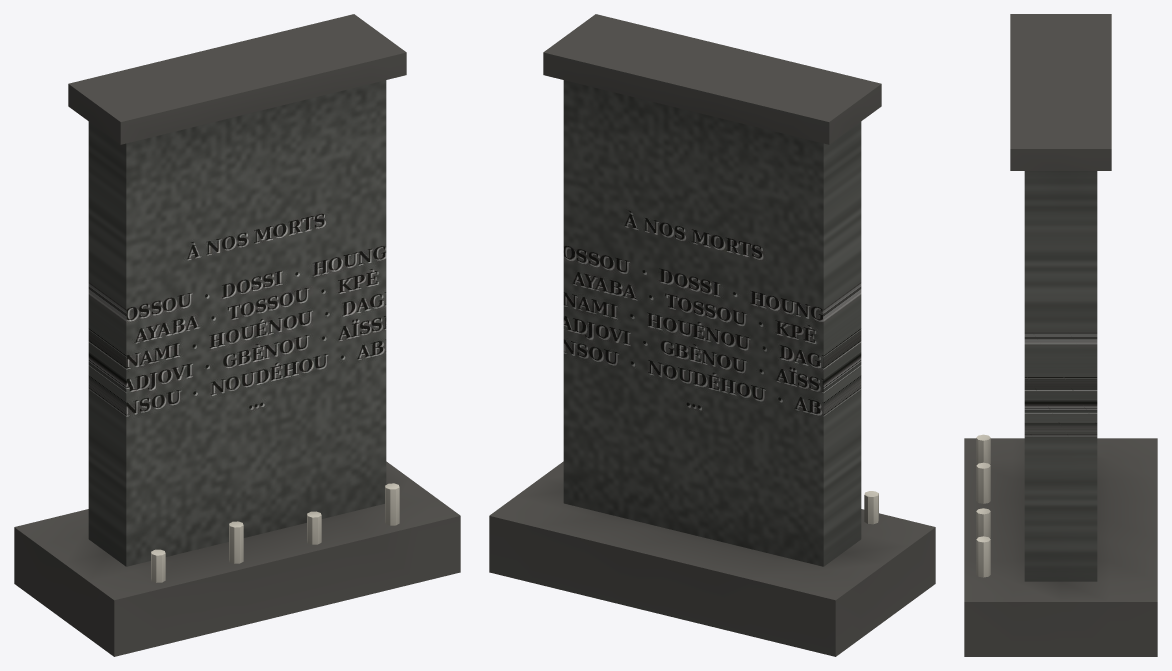
The model's file is az-stele.glb.
3 views of the same model, side by side, from view 1: azimuth 30°, elevation 25°; view 2: azimuth 150°, elevation 25°; view 3: azimuth 270°, elevation 25° (orthographic). The views are drawn at different scales.
Parts seen in each view (by area): view 1: az-stele_az_stele, az-stele_az_stone, az-stele_az_enamel; view 2: az-stele_az_stele, az-stele_az_stone; view 3: az-stele_az_stone, az-stele_az_stele, az-stele_az_enamel.
Part boxes in pixels (x1,y1,x2,y2): az-stele_az_stele: [88, 80, 386, 566]; az-stele_az_stone: [14, 14, 460, 656]; az-stele_az_enamel: [151, 483, 399, 582]; az-stele_az_stele: [563, 80, 861, 566]; az-stele_az_stone: [489, 14, 935, 656]; az-stele_az_stone: [964, 14, 1157, 656]; az-stele_az_stele: [1024, 171, 1097, 581]; az-stele_az_enamel: [976, 434, 990, 577].
Bounding box in the file's own units: 1.6 × 2.25 × 0.7999.
3 materials, 1 textured.
